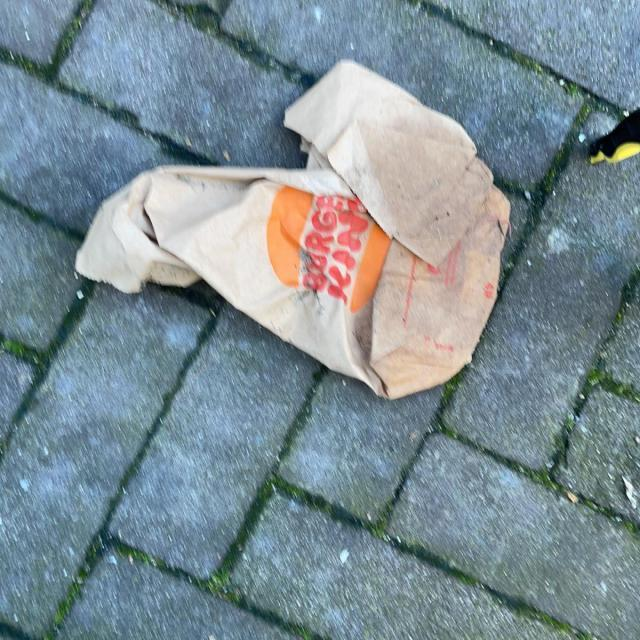Paper: (68, 55, 514, 403)
